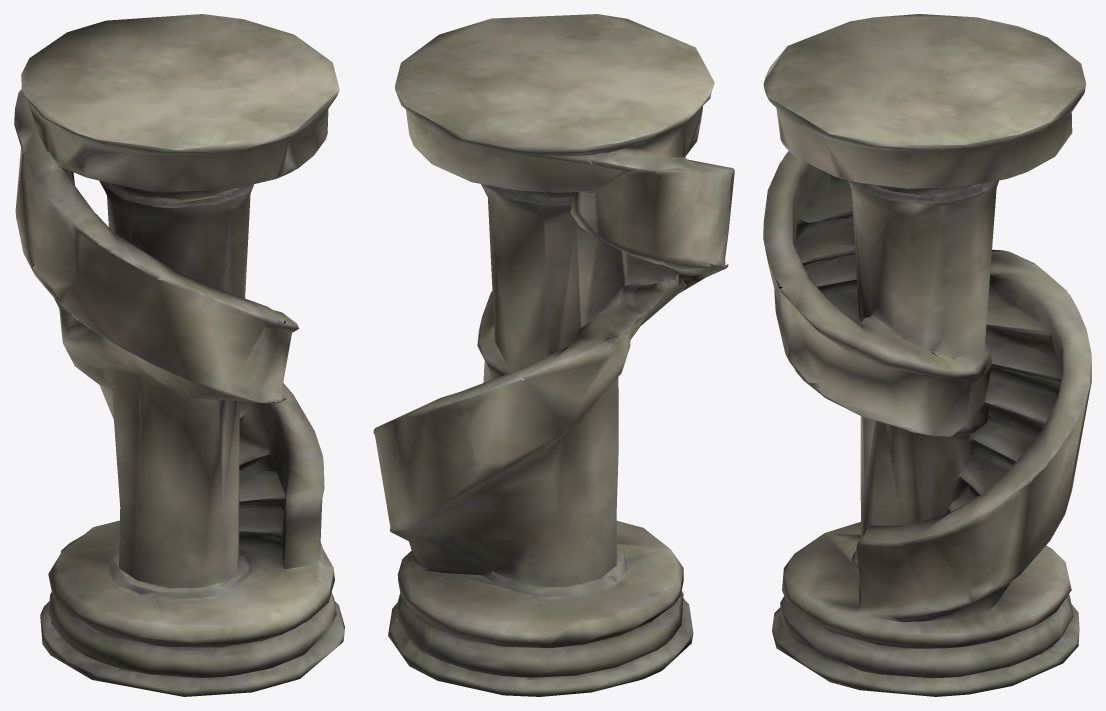
Rendered from ancient-limestone-spiral-staircase-v001.glb.
3 renders of one model, left to right at view 1: azimuth 30°, elevation 25°; view 2: azimuth 150°, elevation 25°; view 3: azimuth 270°, elevation 25°, orthographic.
Visible parts, largest first — view 1: ancient-limestone-spiral-staircase; view 2: ancient-limestone-spiral-staircase; view 3: ancient-limestone-spiral-staircase.
Boxes of the visible parts, x1,y1,x2,y2 form: ancient-limestone-spiral-staircase: (14, 14, 344, 696); ancient-limestone-spiral-staircase: (373, 14, 734, 696); ancient-limestone-spiral-staircase: (763, 14, 1091, 696).
Bounding box in the file's own units: 1.35 × 2.4 × 1.31.
1 material, 1 textured.
